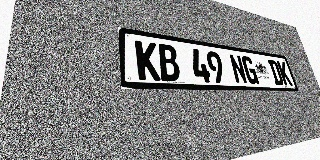4: (189, 48, 211, 83)
9: (205, 50, 226, 83)
B: (157, 43, 181, 81)
D: (267, 59, 284, 85)
G: (241, 56, 259, 84)
K: (135, 40, 161, 81), (276, 61, 293, 86)
N: (228, 54, 248, 84)
